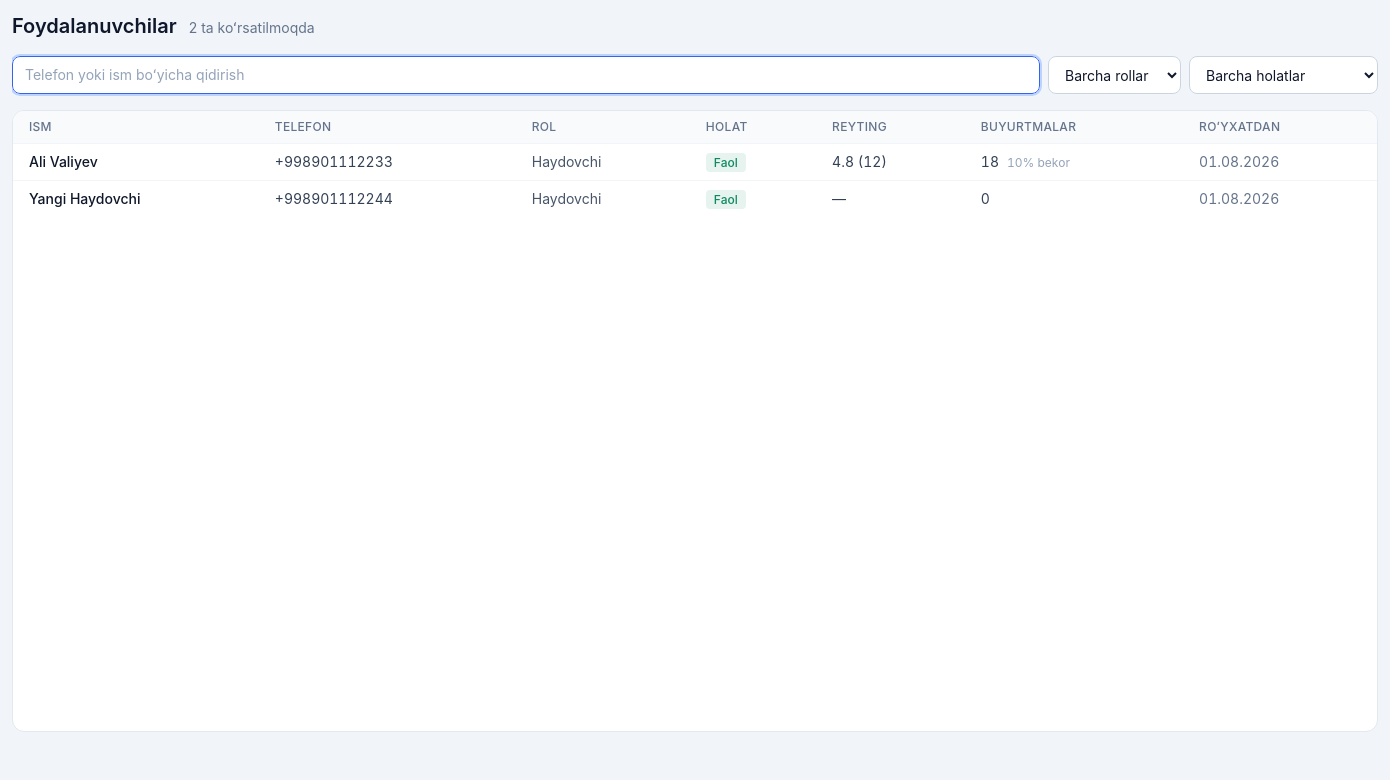
UsersPage › ★ QATOR BOSILGANDA TAFSILOT OCHILADI
Click the text "Ali Valiyev".
click(63, 162)  # box [13,144,259,180]
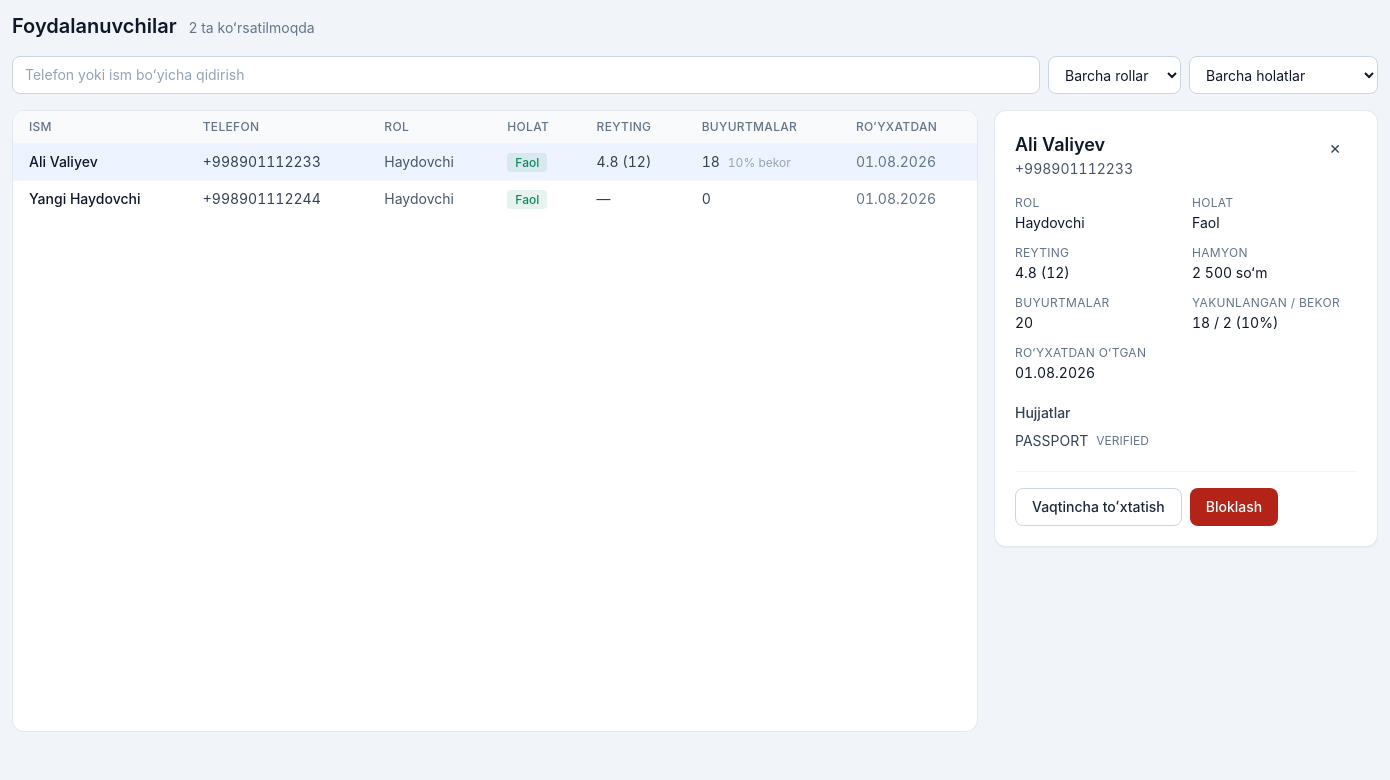
Check: the text "2 500 soʻm" is shown, box [1192,264,1268,281]
Check: the text "PASSPORT" is shown, box [1015,431,1088,451]
